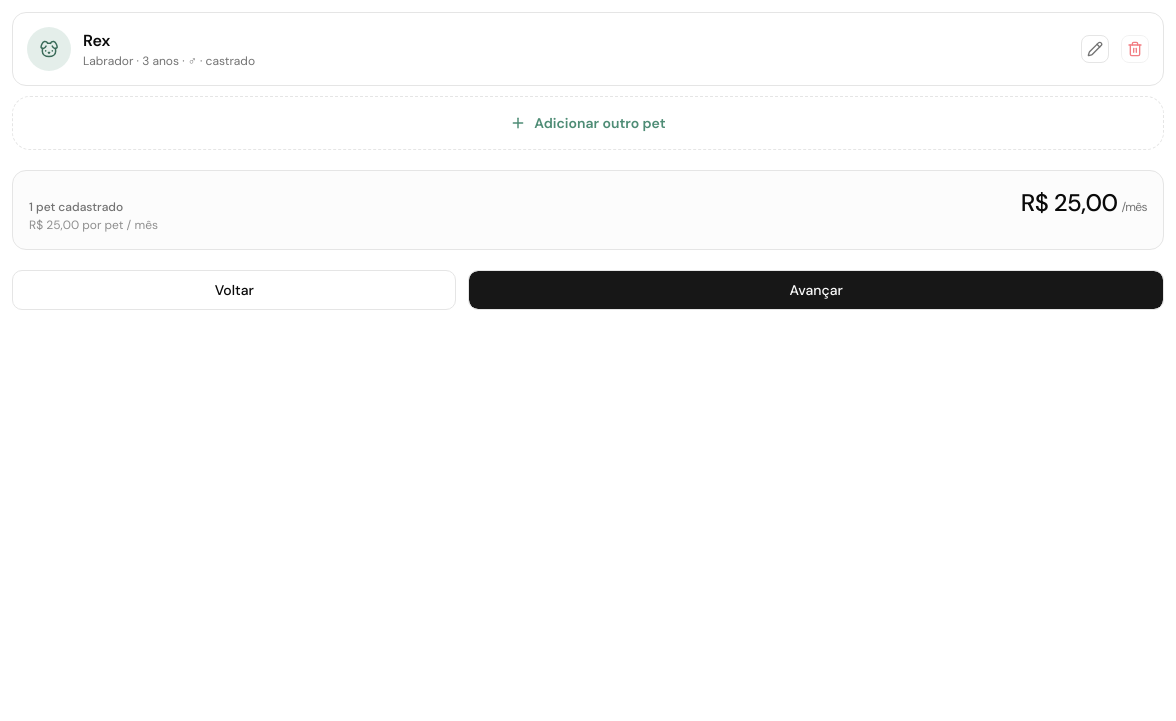
StepPets › should switch to PetForm when "Adicionar outro pet" is clicked
Click the button "Adicionar outro pet" at (588, 123), box [12,96,1164,150]
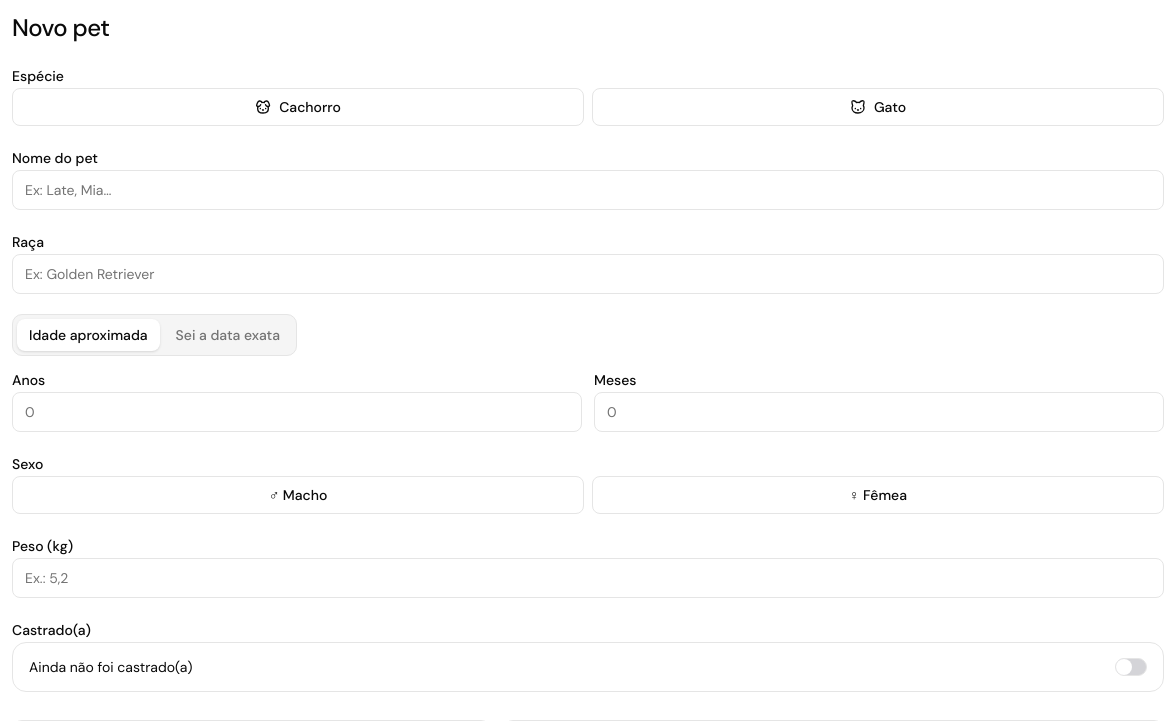
Result: the heading "Novo pet" is shown at [12,12,109,43]
